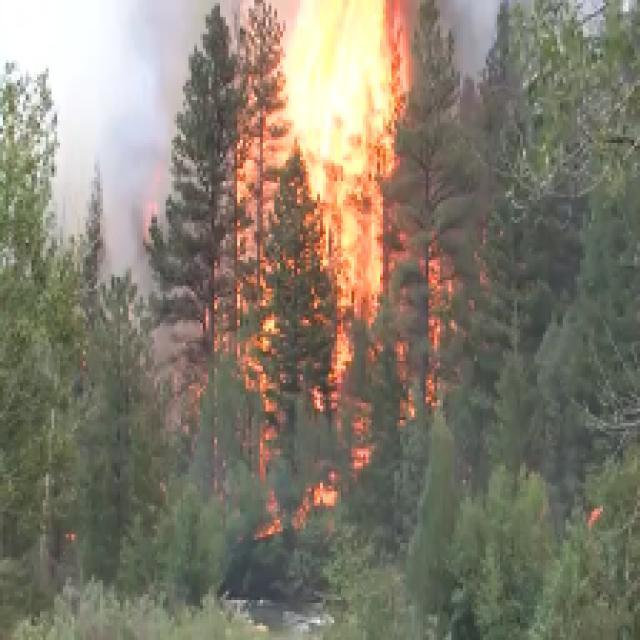Fire: (286, 3, 386, 240)
